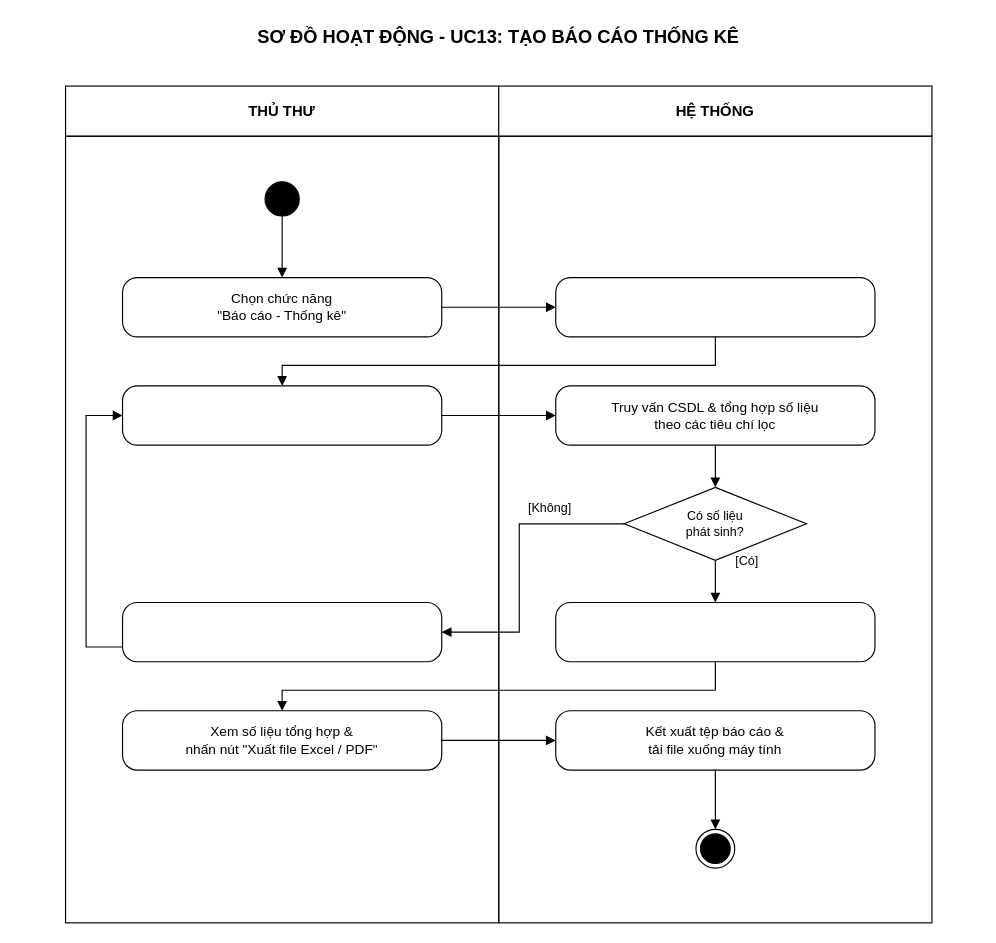
Image size: 996x943. Some labels were removed from this diagram. The shapes that lost their labels are listed below. From the top down, each one's centre as x and y in pixels, then its label:
(715,306): Hiển thị các mẫu báo cáo thống kê (Mượn trả, Quá hạn, Danh mục kho)
(281,415): Chọn loại báo cáo & thiết lập khoảng thời gian (Từ ngày - Đến ngày)
(281,631): Hiển thị thông báo: "Không có dữ liệu trong khoảng này"
(715,631): Hiển thị bảng dữ liệu thống kê kèm biểu đồ trực quan lên màn hình
